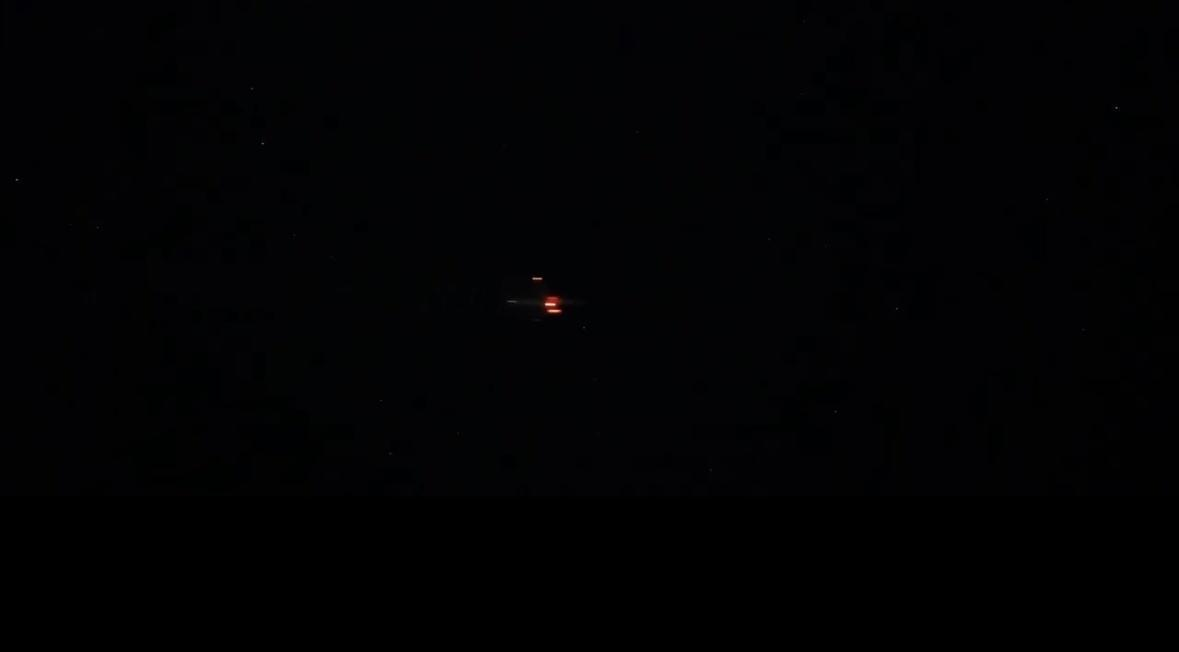Plane: (479, 257, 606, 334)
